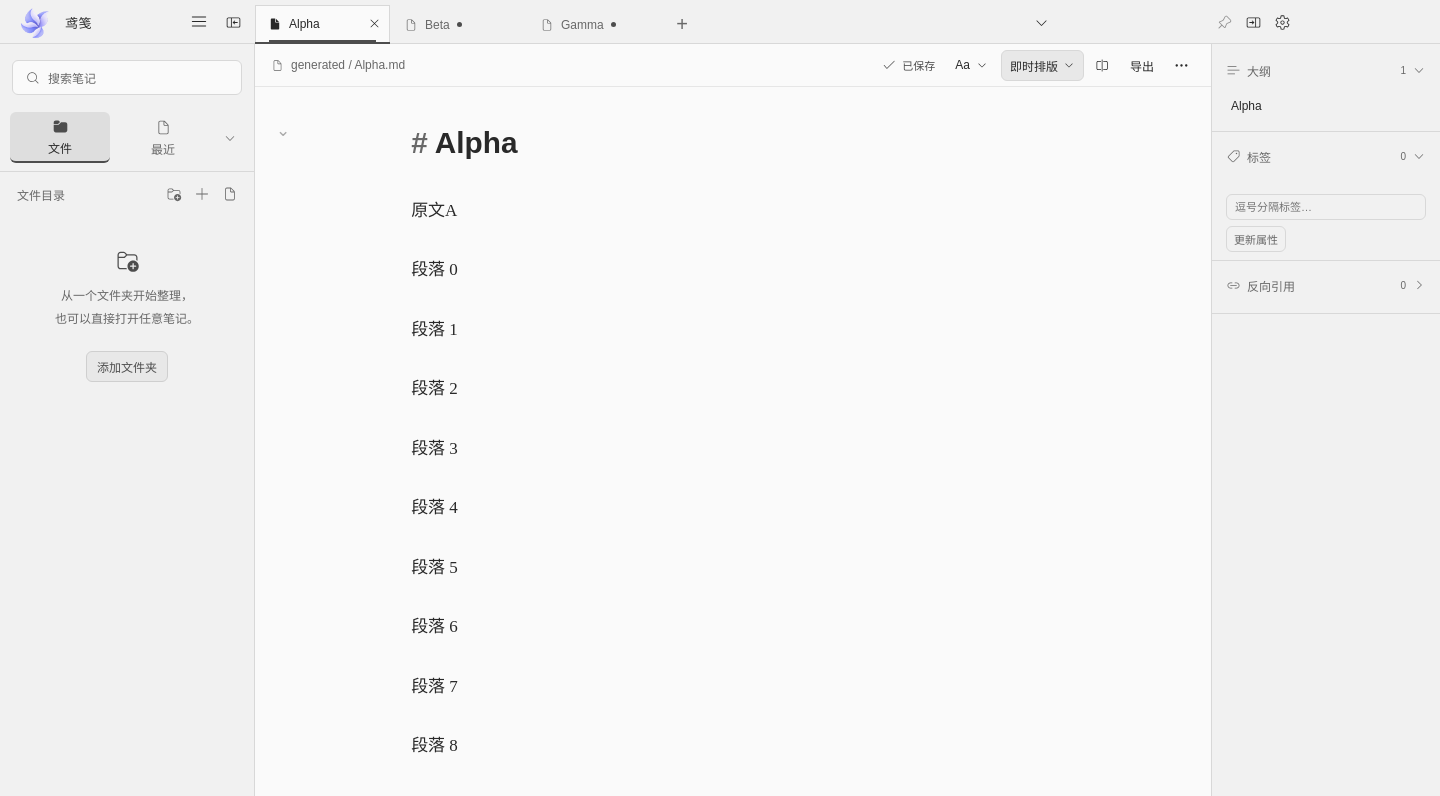
Test: stops remaining batch closes after a save failure
This screenshot has width=1440, height=796.
Right-click the element showing "Alpha": (322, 24) [255, 5, 390, 44]
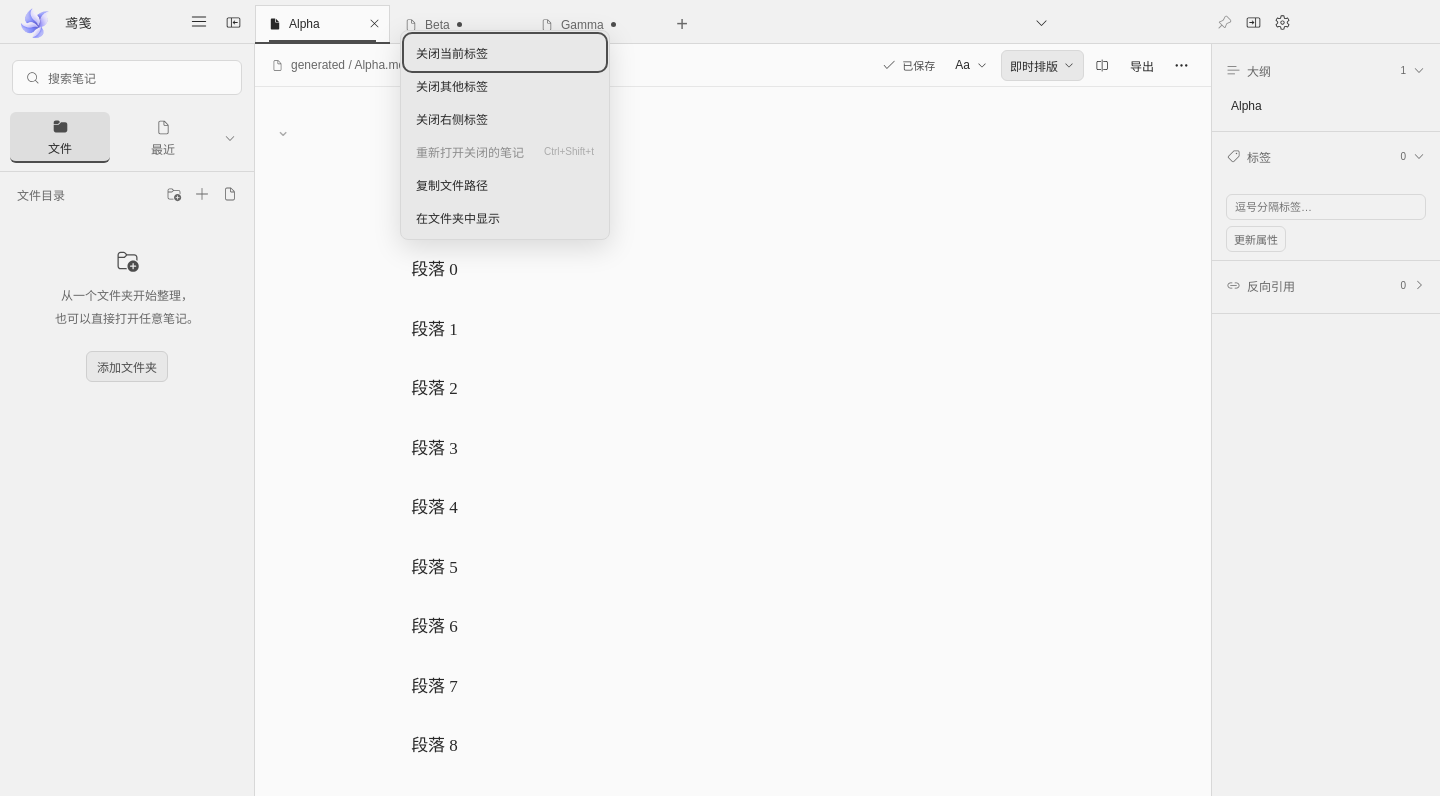
Expected: the menu item "关闭右侧标签" is shown
Click the menu item "关闭右侧标签": (505, 118) [406, 102, 604, 135]
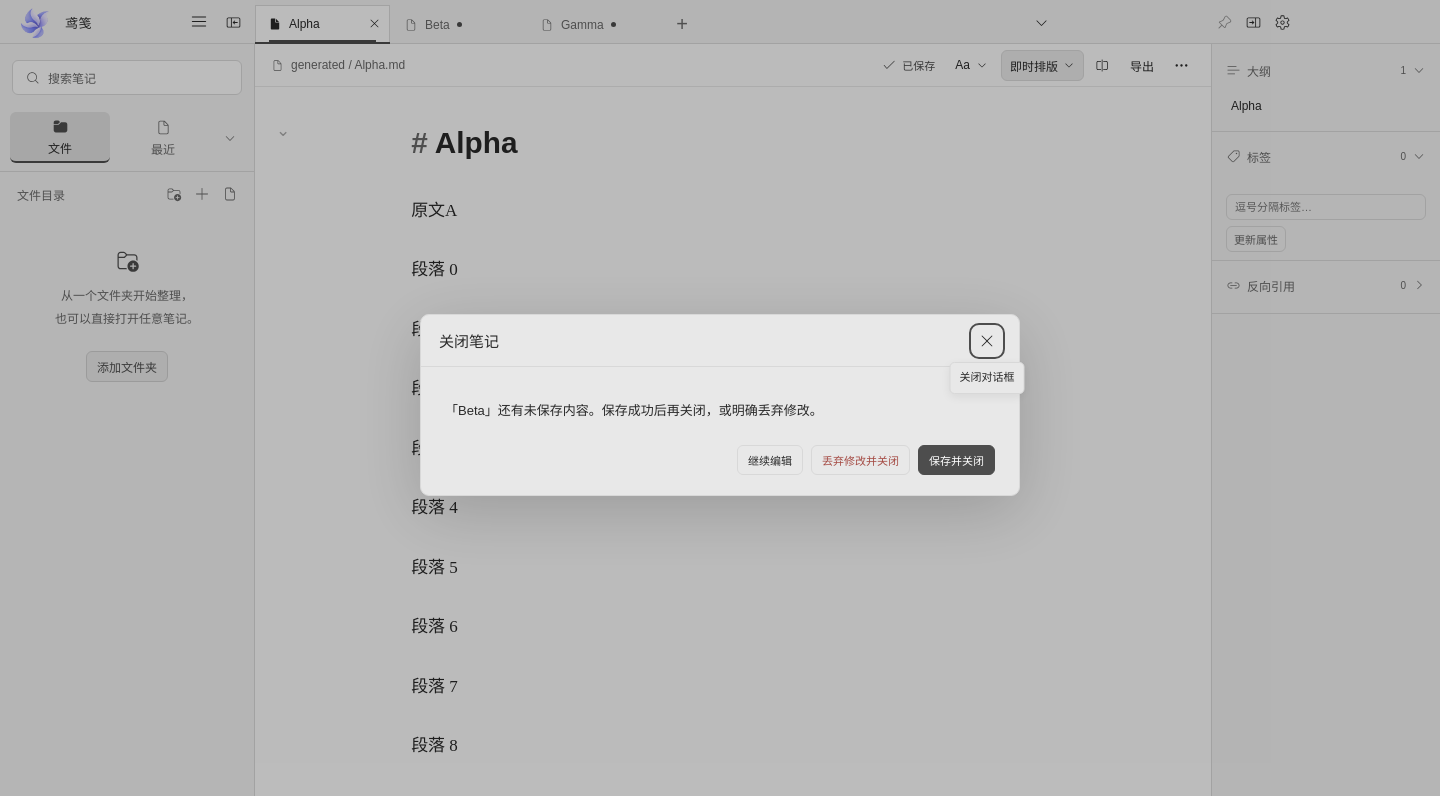
Expected: the button "保存并关闭" is shown
Click the button "保存并关闭": (956, 460) [918, 444, 995, 474]
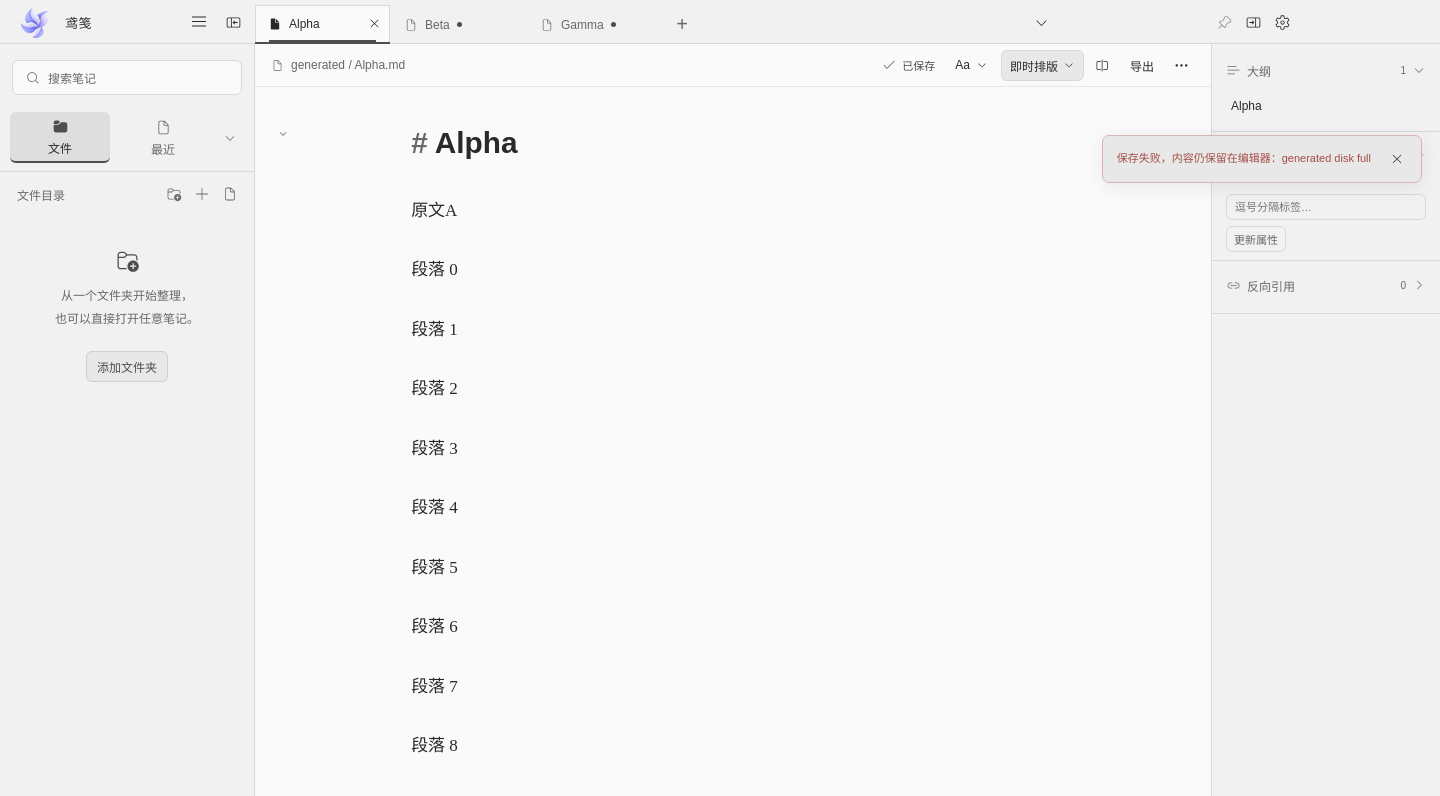
Expected: the dialog is gone
Expected: the text "generated disk full" is shown, [1117, 152, 1371, 164]
